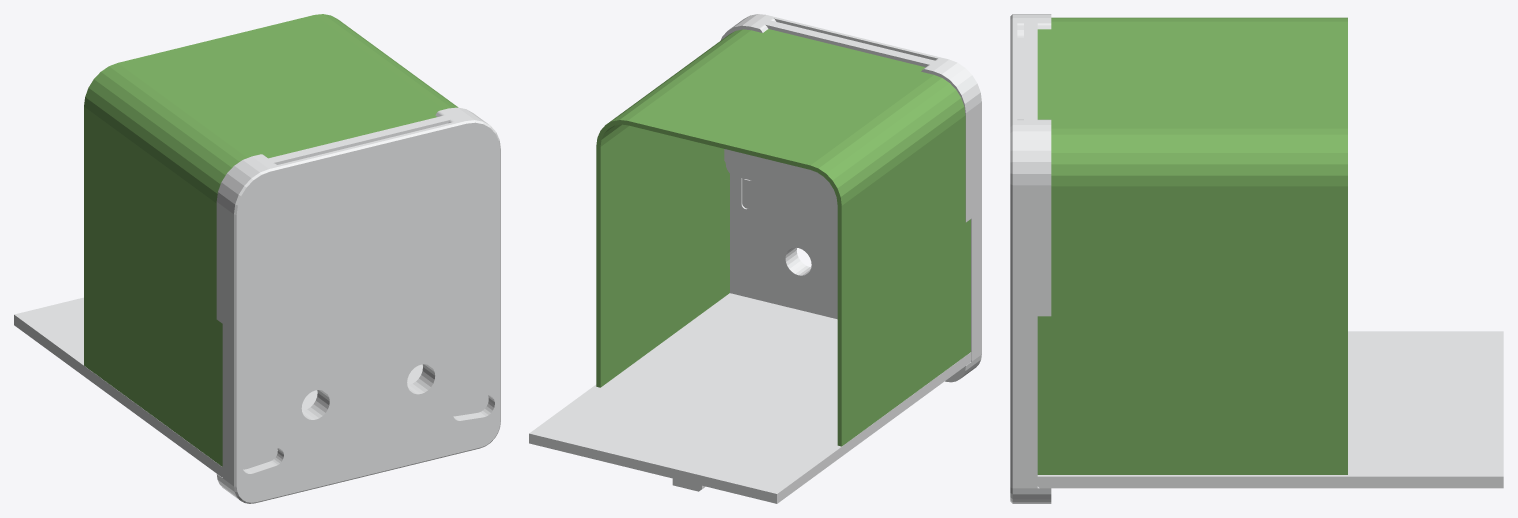
The model's file is formulatrix_mantis_z_column.glb.
3 views of the same model, side by side, from view 1: azimuth 30°, elevation 25°; view 2: azimuth 150°, elevation 25°; view 3: azimuth 270°, elevation 25° (orthographic). The views are drawn at different scales.
Parts seen in each view (by area): view 1: Body1; view 2: Body1; view 3: Body1.
Part boxes in pixels (box(x1,y1,x2,y2)): Body1: box(14, 14, 500, 503); Body1: box(529, 14, 981, 503); Body1: box(1010, 14, 1503, 503).
Bounding box in the file's own units: 76.07 × 90 × 109.
